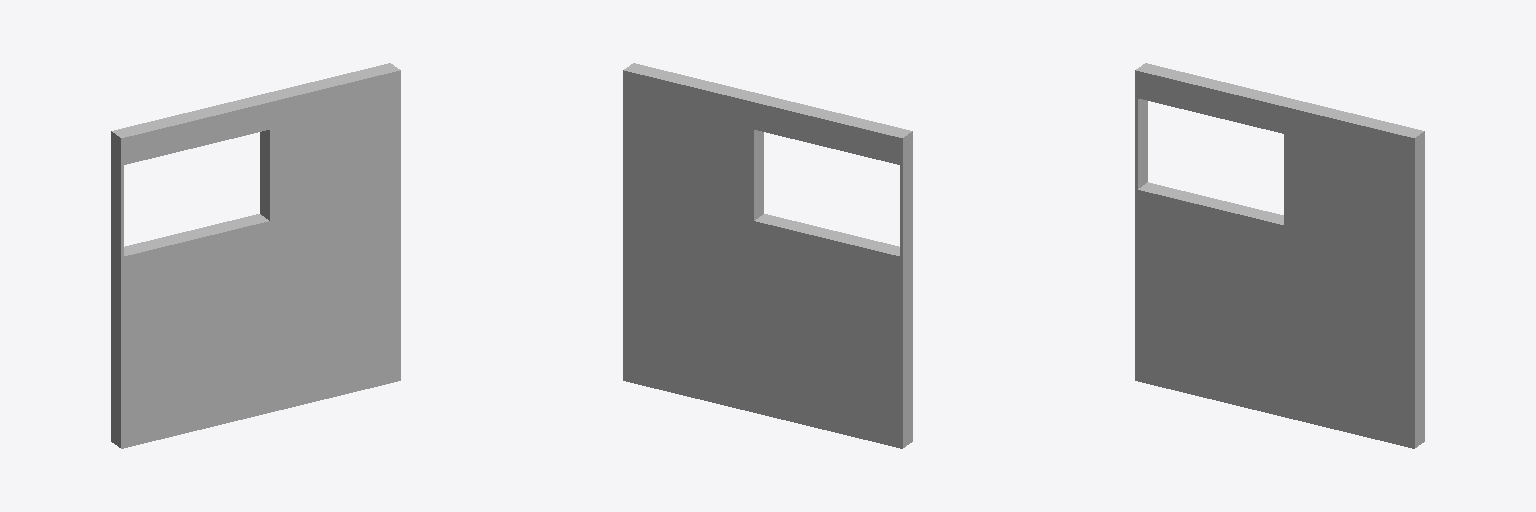
Rendered from df4d_left_board_g.obj.
3 views of the same model, side by side, from view 1: azimuth 30°, elevation 25°; view 2: azimuth 150°, elevation 25°; view 3: azimuth 330°, elevation 25° (orthographic).
Visible parts, largest first — view 1: df4d_left_broad_g; view 2: df4d_left_broad_g; view 3: df4d_left_broad_g.
Part boxes in pixels (left/top/right/bottom): df4d_left_broad_g: left=111, top=63, right=400, bottom=448; df4d_left_broad_g: left=623, top=63, right=912, bottom=448; df4d_left_broad_g: left=1135, top=63, right=1424, bottom=448.
Size of the model in its own units: 2 by 2.12 by 0.125.